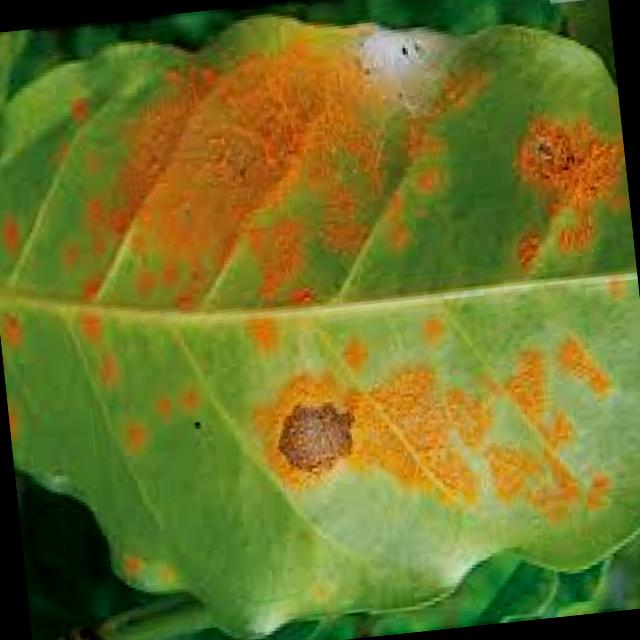leaf_rust: (0, 18, 640, 638)
